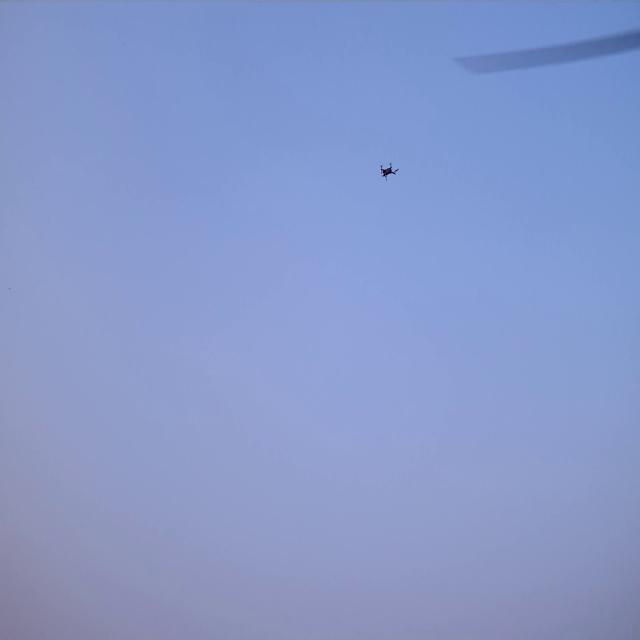UAV: (381, 164, 397, 180)
